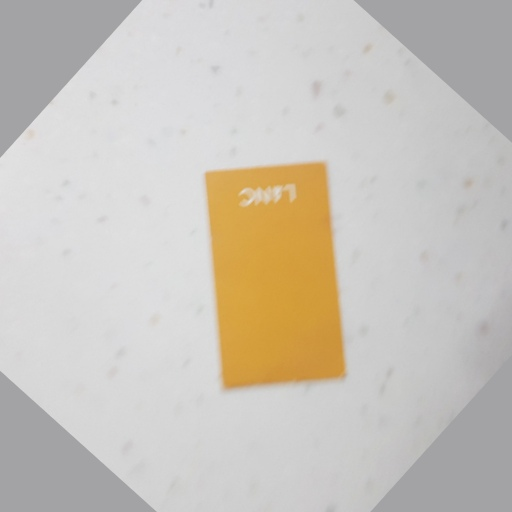Paper_2: (202, 157, 353, 393)
